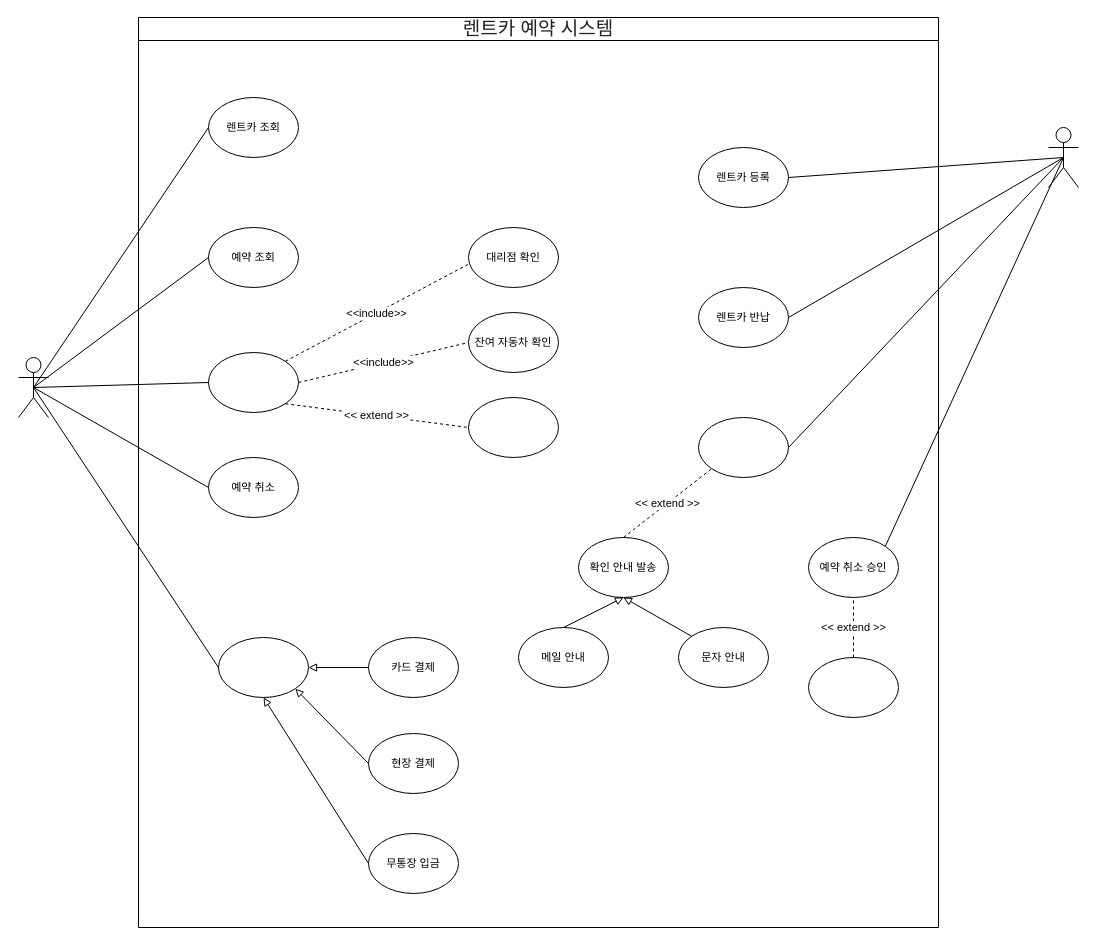
Image size: 1096x945. Some labels were removed from this diagram. Here are the shapes that lost their labels. From the top down, the centre of each, then its label:
At pixel 1063 157: "직원".
At pixel 33 387: "사용자".
At pixel 253 382: "예약".
At pixel 513 427: "반납 옵션 선택".
At pixel 743 447: "예약 승인".
At pixel 263 667: "결제".
At pixel 853 687: "환불".
